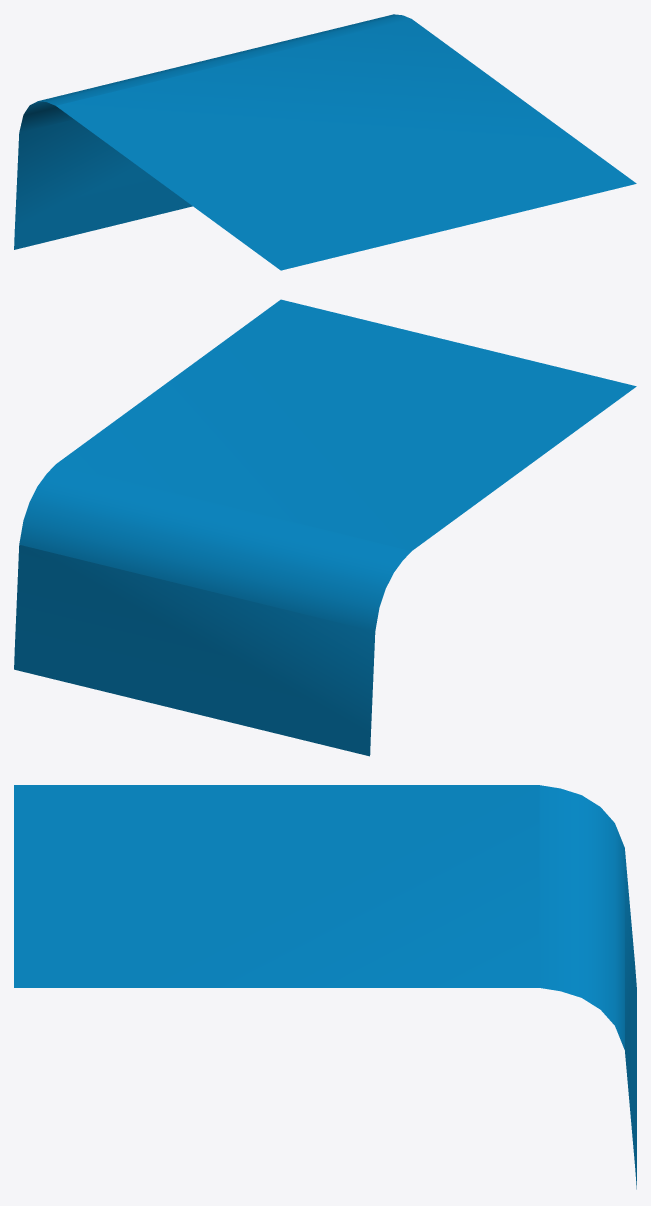
Rendered from RiverFall02Water.fbx.
The picture shows the model from 3 angles, top to bottom: view 1: azimuth 30°, elevation 25°; view 2: azimuth 150°, elevation 25°; view 3: azimuth 270°, elevation 25°; orthographic projection. The views are drawn at different scales.
Parts seen in each view (by area): view 1: RiverFall02Water; view 2: RiverFall02Water; view 3: RiverFall02Water.
Boxes of the visible parts, left/top/right/bottom form: RiverFall02Water: left=14, top=14, right=636, bottom=270; RiverFall02Water: left=14, top=299, right=636, bottom=756; RiverFall02Water: left=14, top=785, right=636, bottom=1189.
Bounding box in the file's own units: 544 × 706 × 255.
